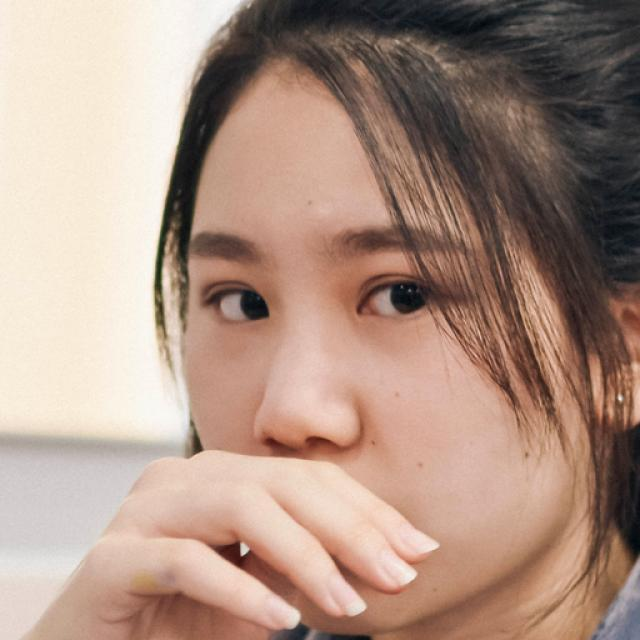neutral: (182, 58, 594, 638)
